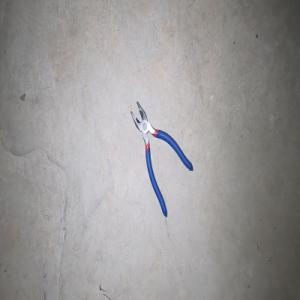Pliers: (130, 101, 193, 217)
